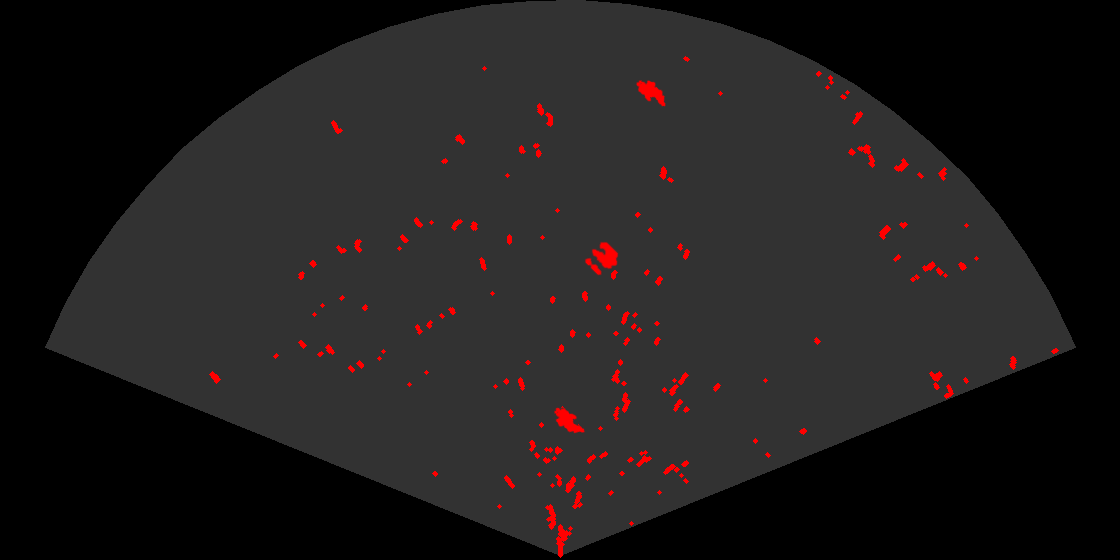AUV: (552, 406, 587, 435), (635, 79, 667, 108)
ball: (583, 240, 620, 277)
